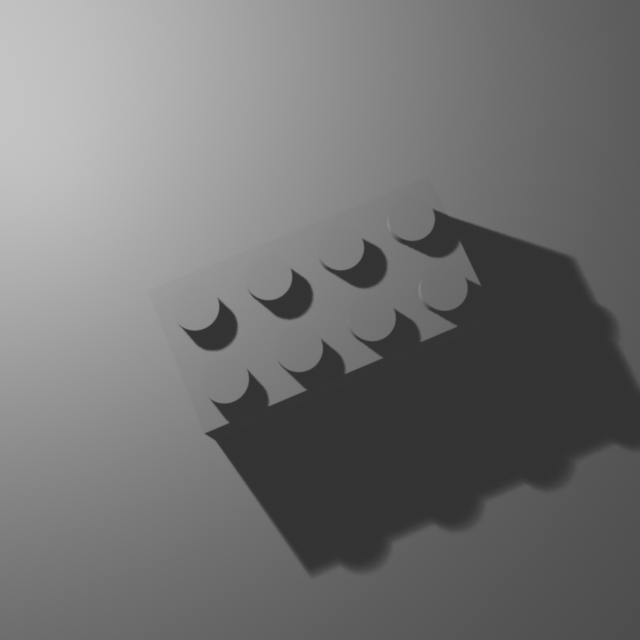lego_2x4: (144, 171, 496, 440)
